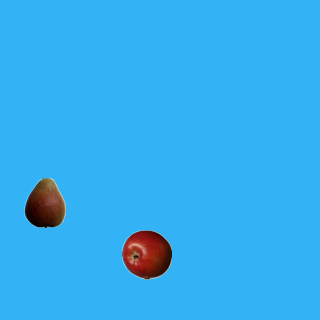Apple Braeburn: (121, 229, 171, 279)
Pear Forelle: (19, 177, 69, 227)
